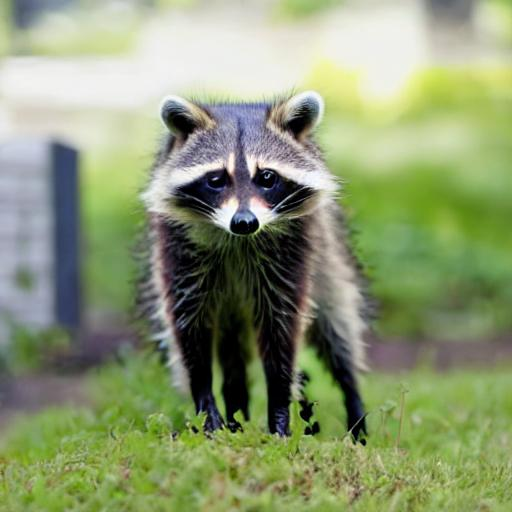raccoon: (130, 87, 376, 422)
